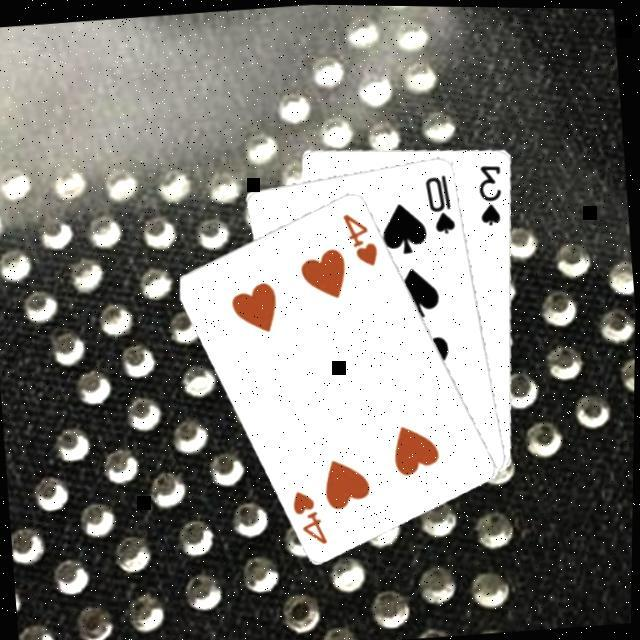10S: (422, 169, 461, 238)
3S: (475, 160, 510, 228)
4H: (340, 208, 384, 272), (290, 485, 334, 549)
